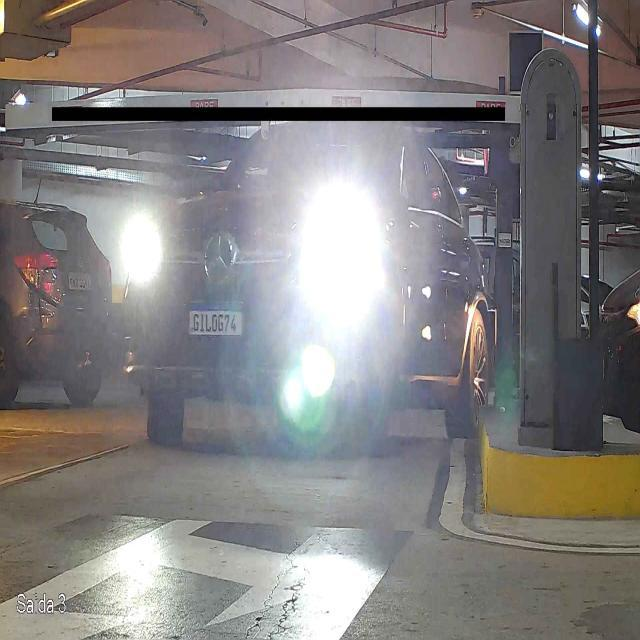mercosul_plate: (185, 304, 246, 338)
